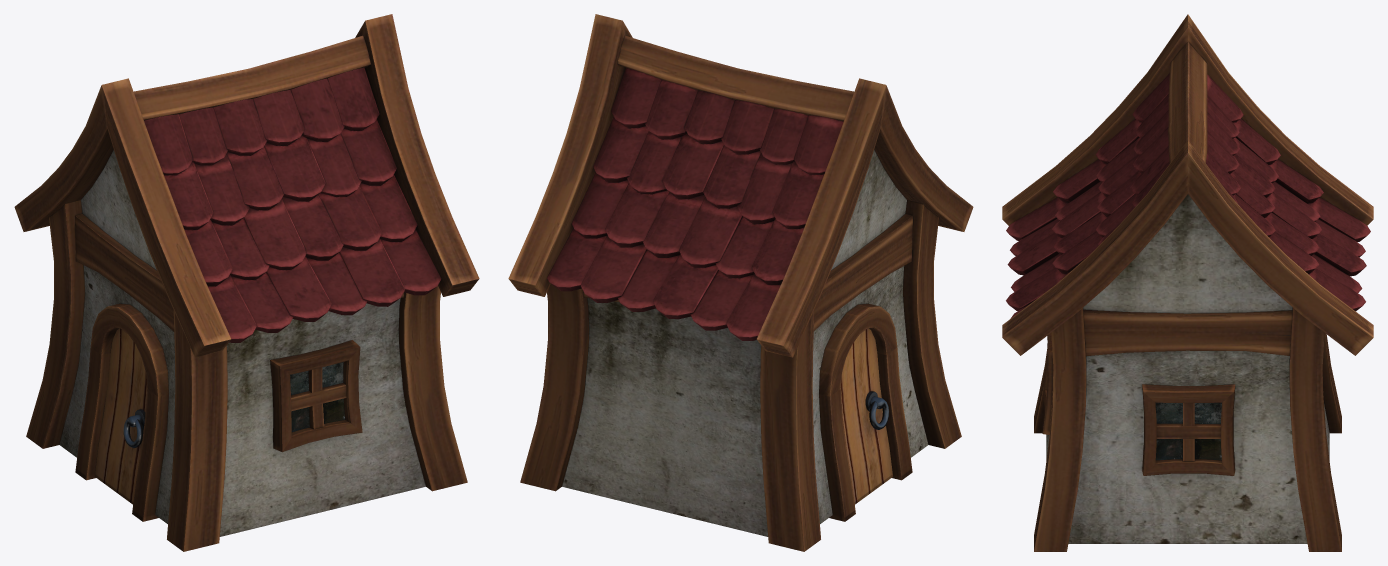
The model's file is tiny_house.fbx.
3 views of the same model, side by side, from view 1: azimuth 30°, elevation 25°; view 2: azimuth 150°, elevation 25°; view 3: azimuth 270°, elevation 25° (orthographic). The views are drawn at different scales.
Parts seen in each view (by area): view 1: test_house_walls_1; view 2: test_house_walls_1; view 3: test_house_walls_1.
Boxes of the visible parts, <box> form: test_house_walls_1: <box>14,14,479,551</box>; test_house_walls_1: <box>508,14,973,551</box>; test_house_walls_1: <box>1002,14,1373,551</box>.
Size of the model in its own units: 119 by 161 by 134.
1 material, 1 textured.
